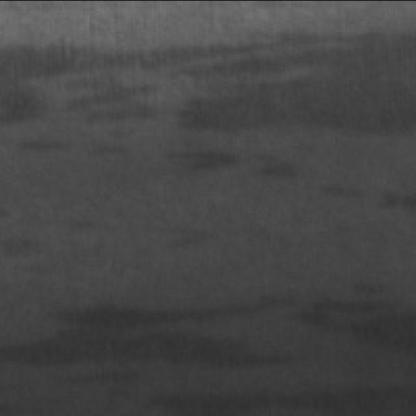inclusion: (0, 33, 412, 131), (2, 295, 408, 375), (158, 146, 304, 189), (154, 216, 216, 248)
